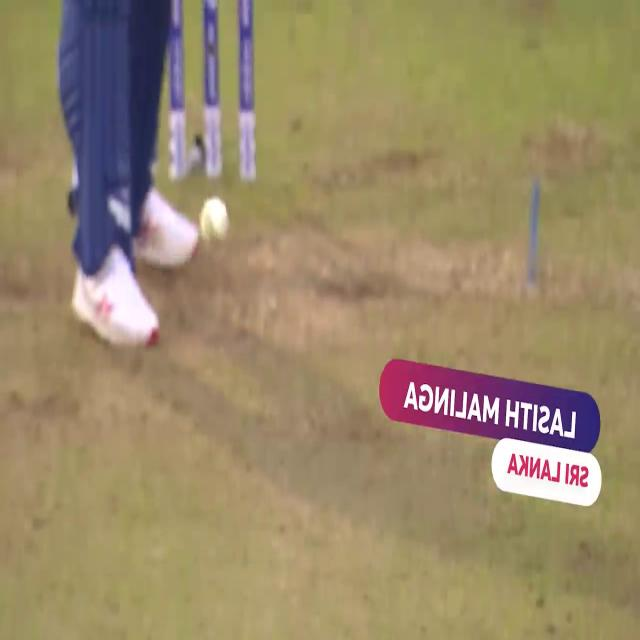ball: (198, 192, 230, 255)
